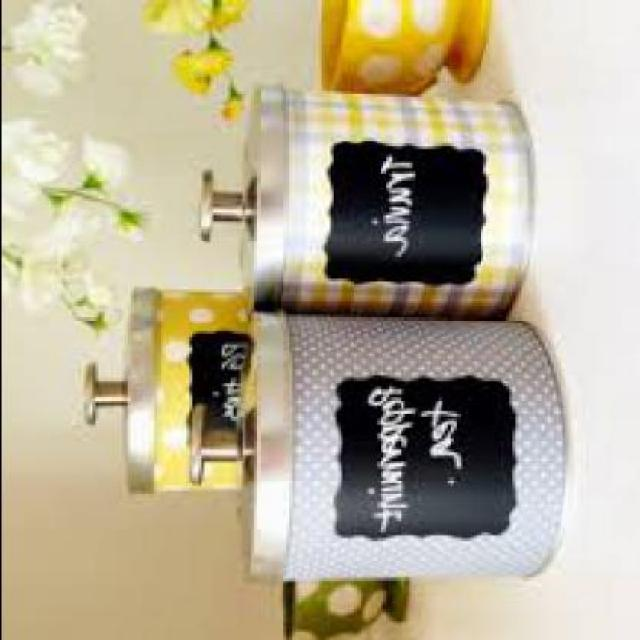BIODEGRADABLE: (1, 116, 57, 244), (8, 2, 88, 88), (56, 188, 150, 234), (50, 262, 105, 328), (32, 202, 88, 264), (15, 245, 64, 301), (77, 122, 120, 184), (174, 42, 226, 88), (166, 0, 212, 37), (1, 248, 22, 294), (138, 0, 167, 31), (206, 0, 234, 31), (217, 85, 238, 116)
METAL: (186, 306, 554, 577), (190, 83, 532, 317), (76, 287, 241, 493)
